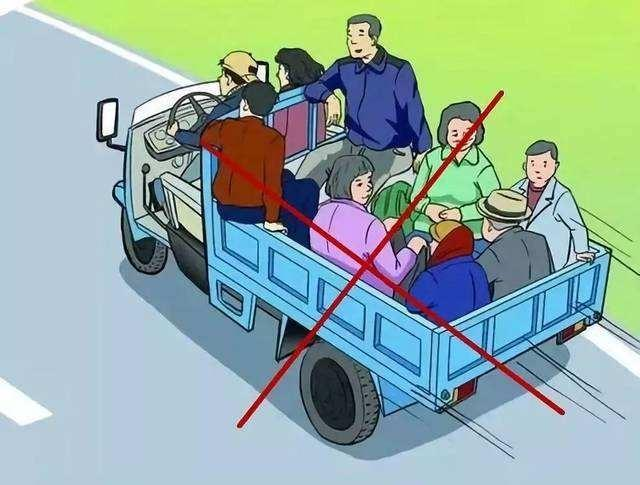driver: (141, 42, 240, 186)
overloading: (79, 13, 619, 437)
passenger: (306, 152, 411, 291), (332, 16, 428, 167), (525, 128, 606, 277), (217, 86, 291, 222), (411, 97, 501, 204), (469, 187, 543, 305), (410, 215, 486, 325), (269, 45, 323, 151)
